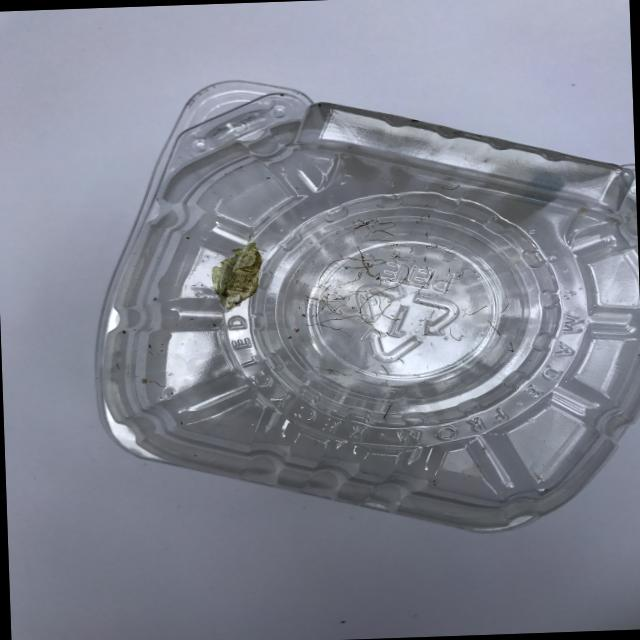Plastic: (0, 40, 640, 568)
